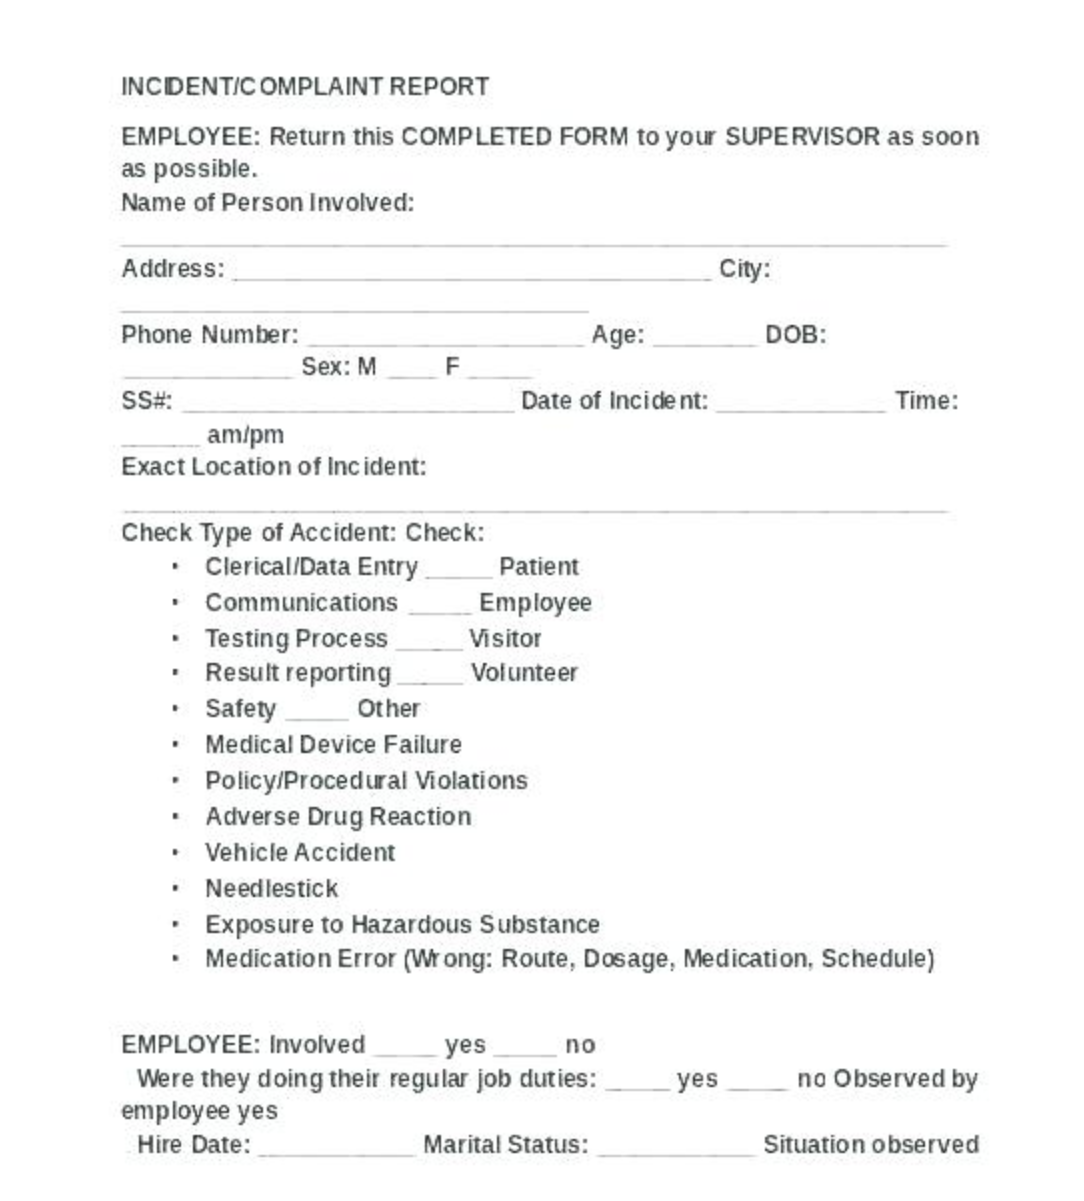textline: (113, 478, 957, 518), (109, 214, 954, 252), (107, 287, 603, 322), (226, 255, 719, 284), (178, 384, 519, 416), (303, 317, 592, 353), (105, 348, 303, 386), (709, 384, 895, 420), (255, 1127, 425, 1164), (594, 1129, 761, 1165), (647, 316, 765, 353), (113, 416, 206, 451), (489, 1025, 564, 1063), (401, 587, 478, 622), (461, 352, 551, 381), (367, 1024, 441, 1060), (392, 627, 470, 660), (419, 547, 496, 580), (724, 1061, 792, 1097), (601, 1065, 675, 1096), (281, 692, 353, 724), (394, 660, 469, 690), (376, 352, 443, 381)
